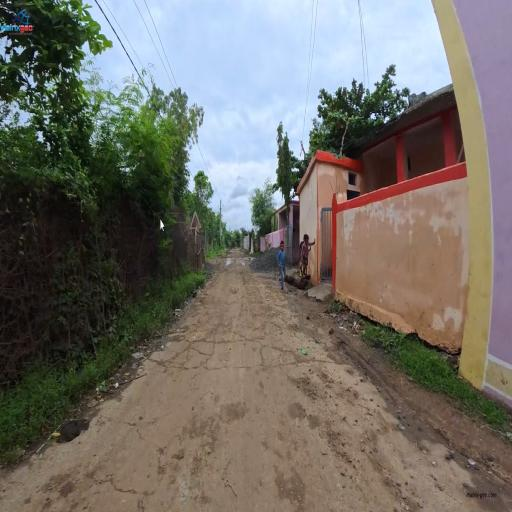alligator_crack: (210, 306, 290, 384)
